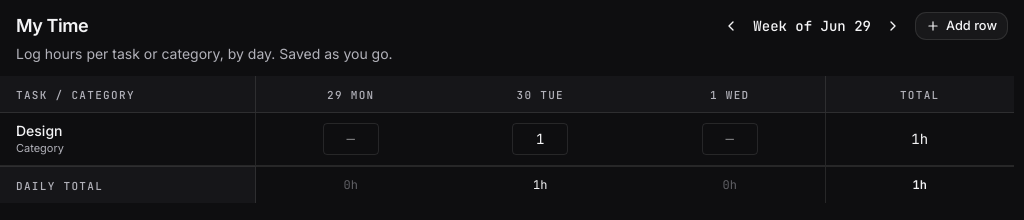
Test: coalesced refresh › keeps the committed value visible after the transition settles (durable overlay)
Type "2" into the 1st field with placeholder "—". click: (351, 139)
box: [323,123,379,155]
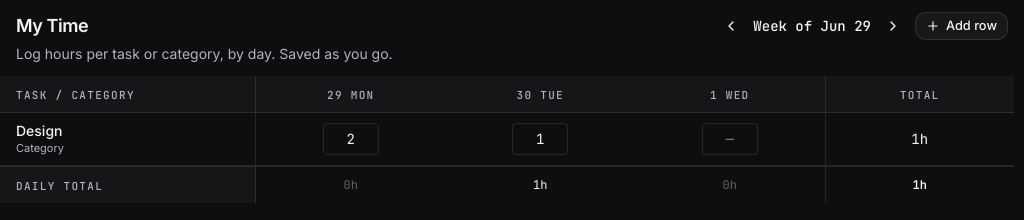
Leave the field named "Design, 29 Mon", box [323,123,379,155]
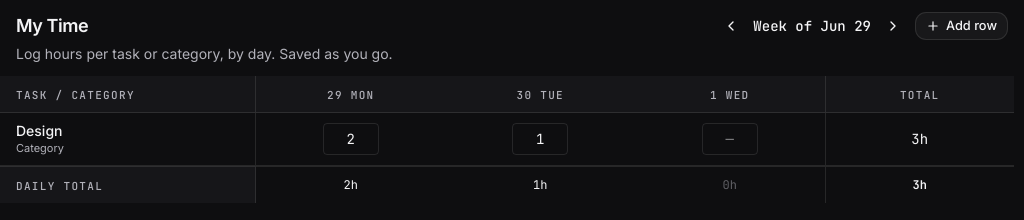
Expected: the text "2h" is shown, [256,166,446,203]
